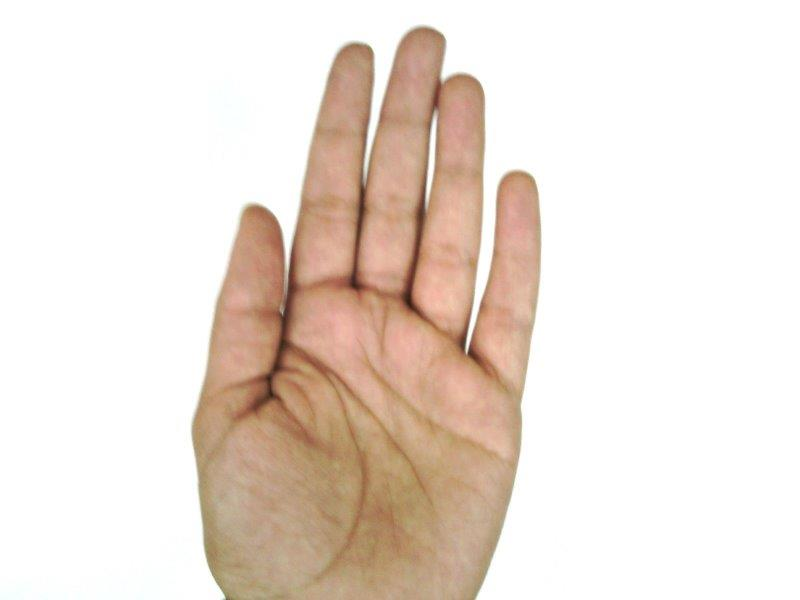hand: (193, 26, 540, 597)
